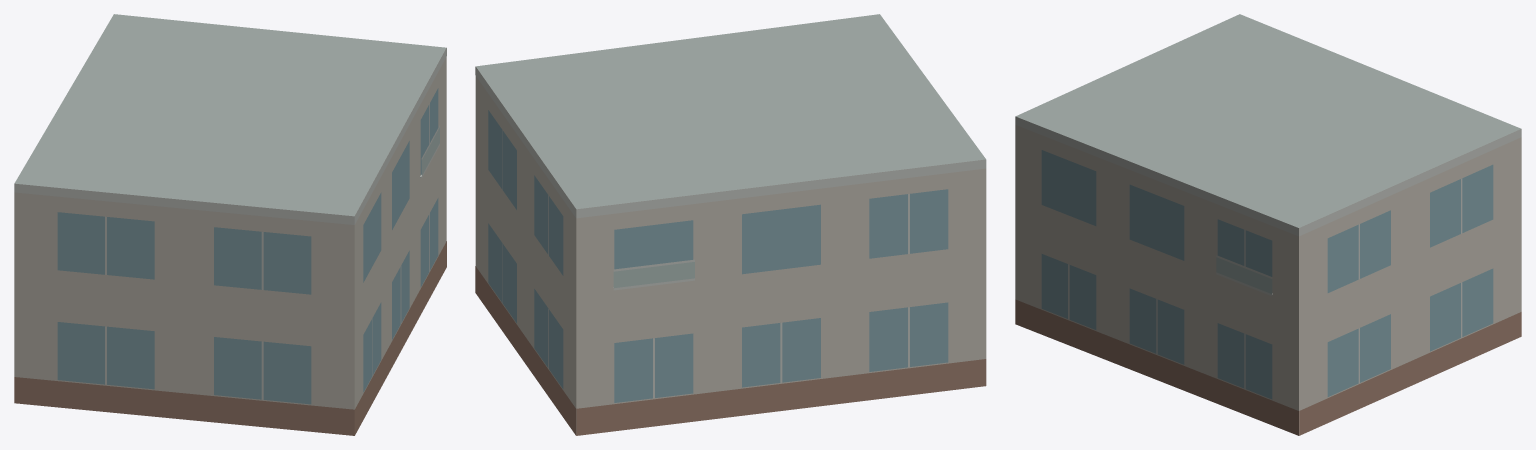
File: survey-upis-32712571.glb
3 views of the same model, side by side, from view 1: azimuth 30°, elevation 25°; view 2: azimuth 150°, elevation 25°; view 3: azimuth 270°, elevation 25° (orthographic). The views are drawn at different scales.
Parts seen in each view (by area): view 1: survey-upis-32712571.tmp; view 2: survey-upis-32712571.tmp; view 3: survey-upis-32712571.tmp.
Boxes of the visible parts, x1,y1,x2,y2 form: survey-upis-32712571.tmp: [14, 14, 446, 435]; survey-upis-32712571.tmp: [475, 14, 986, 435]; survey-upis-32712571.tmp: [1015, 14, 1521, 435].
Size of the model in its own units: 13.49 by 6.1 by 13.48.
